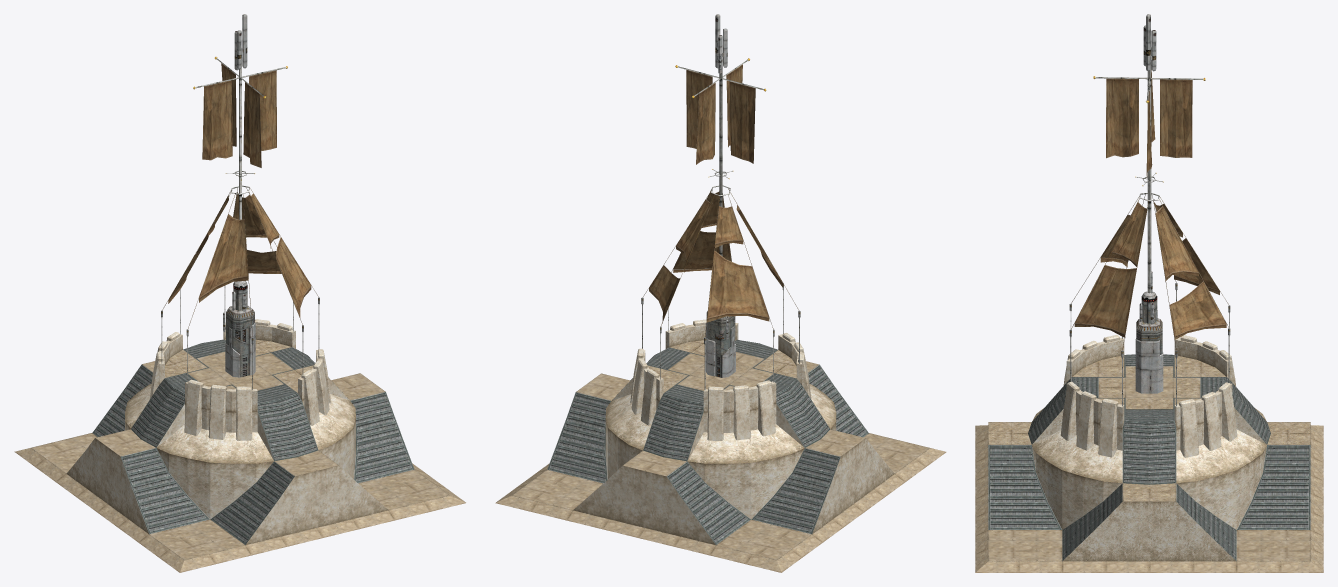
The model's file is ply_tato_bank_s01_l0.fbx.
3 renders of one model, left to right at view 1: azimuth 30°, elevation 25°; view 2: azimuth 150°, elevation 25°; view 3: azimuth 270°, elevation 25°, orthographic. The views are drawn at different scales.
Parts seen in each view (by area): view 1: mesh_node; view 2: mesh_node; view 3: mesh_node.
Boxes of the visible parts, bbox=[...] form: mesh_node: bbox=[14, 14, 465, 572]; mesh_node: bbox=[495, 14, 946, 572]; mesh_node: bbox=[975, 14, 1323, 572].
Size of the model in its own units: 16 by 24.64 by 16.
